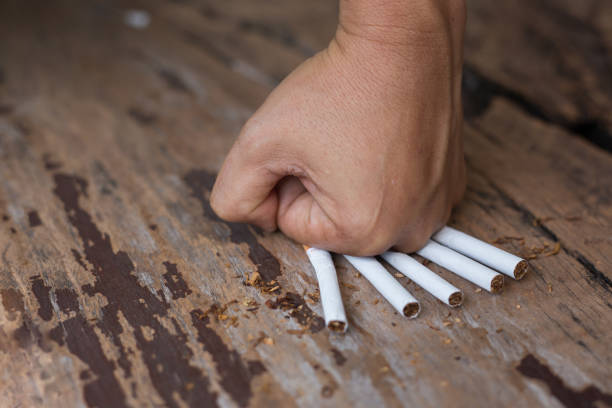cigarette: (342, 253, 422, 320), (431, 227, 530, 281), (417, 238, 506, 295), (379, 250, 465, 308), (301, 244, 350, 335)
